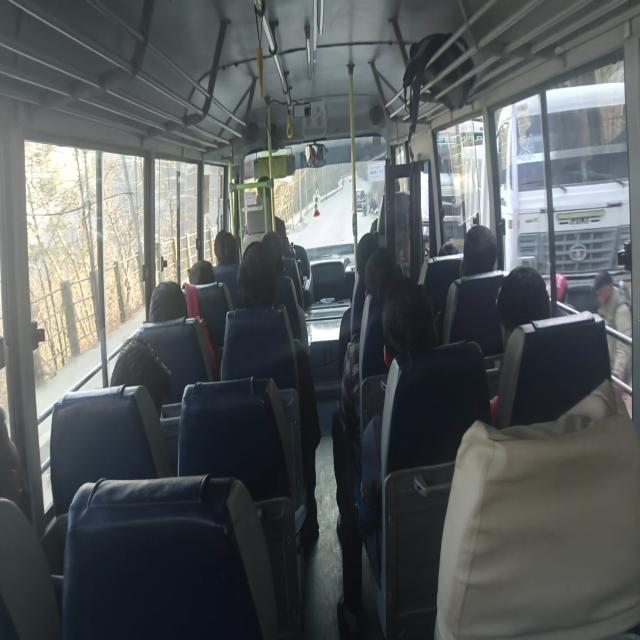person: (335, 276, 437, 635), (231, 240, 321, 542), (359, 277, 437, 507), (486, 264, 552, 421), (441, 224, 498, 342), (338, 232, 379, 370), (110, 334, 172, 414), (495, 264, 551, 350), (593, 269, 632, 390), (236, 240, 278, 308), (459, 224, 498, 278), (148, 280, 188, 322), (214, 229, 238, 266), (189, 259, 215, 285), (438, 240, 458, 256)
